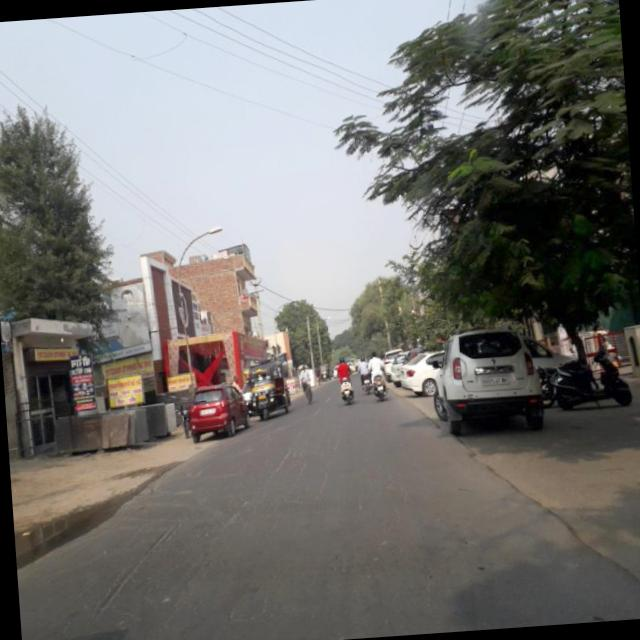pothole: (80, 515, 185, 628)
